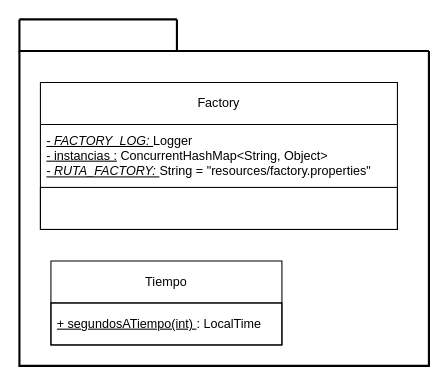
This 447x384 diagram has some shape labels left out. Each missing label, with the centre of its shape:
"+ getInstancia(String) : Object" goes at point 218,207.
"Util" goes at point 97,34.
